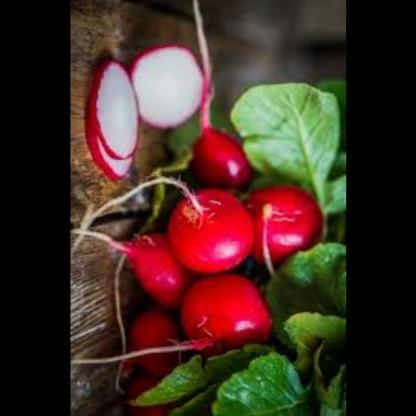rediska: (178, 273, 274, 367), (170, 183, 258, 278), (124, 44, 206, 142), (238, 180, 324, 272), (118, 309, 190, 415), (83, 51, 135, 178), (184, 114, 248, 203), (122, 234, 202, 304)
